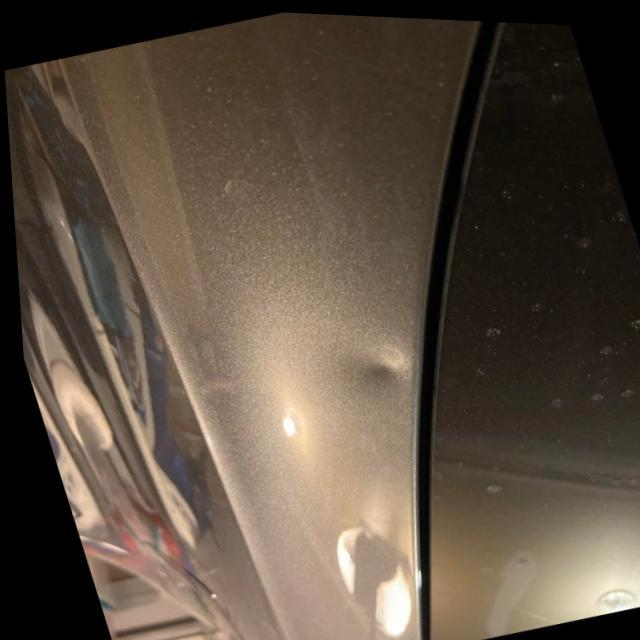Dent: (323, 324, 409, 409)
